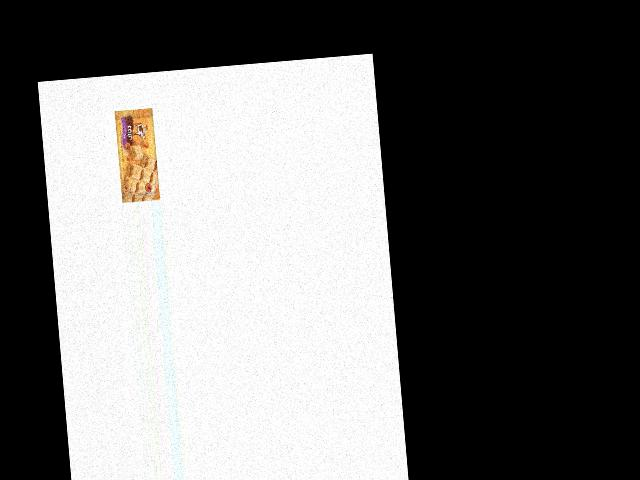chocolate: (111, 105, 159, 203)
